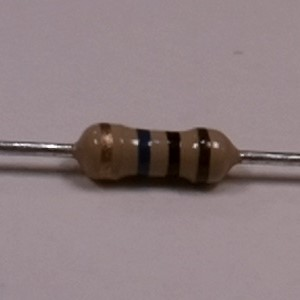black_band: (162, 128, 184, 184)
blue_band: (132, 126, 154, 185)
brown_band: (193, 124, 212, 188)
gold_band: (96, 120, 118, 186)
